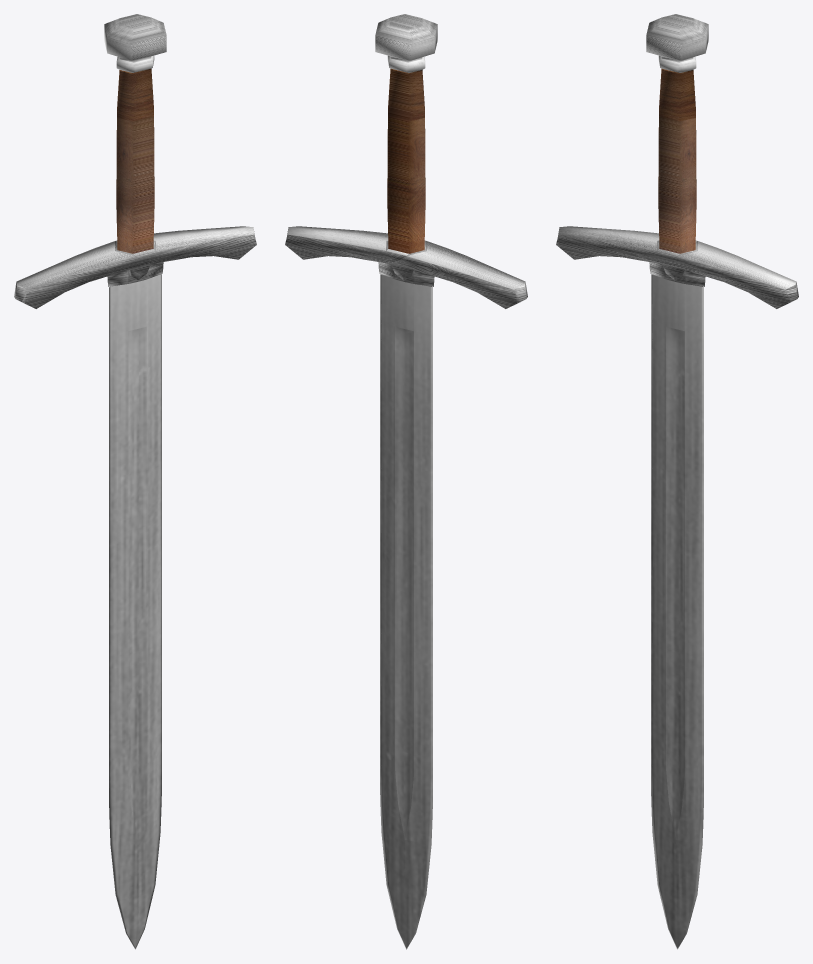
The model's file is espada2lars.obj.
3 views of the same model, side by side, from view 1: azimuth 30°, elevation 25°; view 2: azimuth 150°, elevation 25°; view 3: azimuth 330°, elevation 25° (orthographic).
Parts seen in each view (by area): view 1: polySurface5; view 2: polySurface5; view 3: polySurface5.
Part boxes in pixels (box(x1,y1,x2,y2)): polySurface5: box(14, 14, 256, 949); polySurface5: box(285, 14, 527, 949); polySurface5: box(556, 14, 798, 949).
Size of the model in its own units: 0.5996 by 2.21 by 0.1155.
